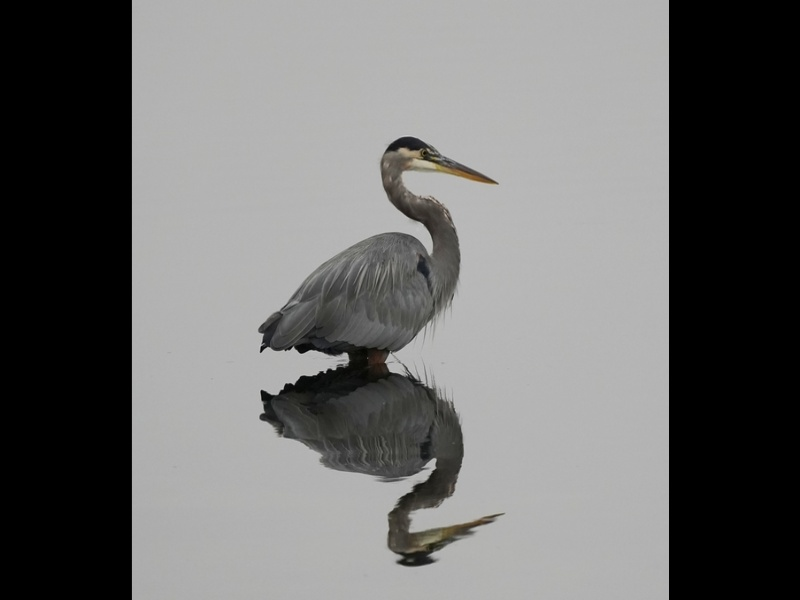heron: (253, 132, 502, 367)
